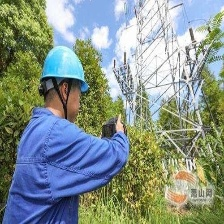helmet: (38, 45, 89, 96)
person: (4, 44, 132, 224)
